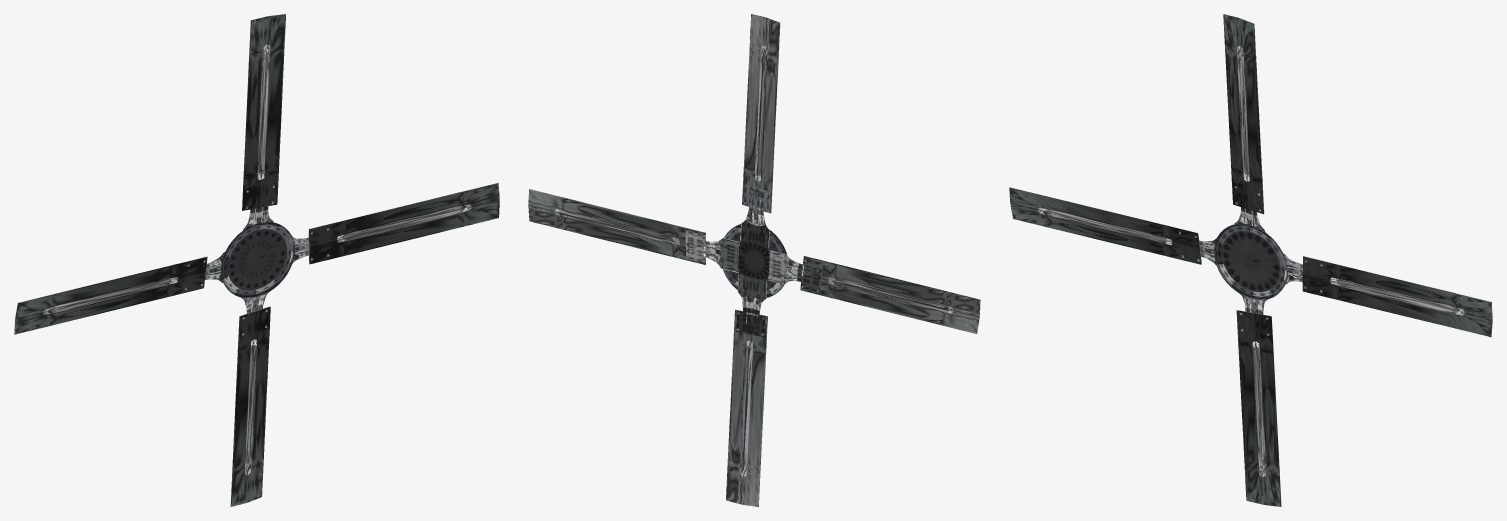
The model's file is ventilador_helice.obj.
The picture shows the model from 3 angles, left to right: view 1: azimuth 30°, elevation 25°; view 2: azimuth 150°, elevation 25°; view 3: azimuth 330°, elevation 25°; orthographic projection. The views are drawn at different scales.
Visible parts, largest first — view 1: helice_ventiladordeteto_(1).001; view 2: helice_ventiladordeteto_(1).001; view 3: helice_ventiladordeteto_(1).001.
Part boxes in pixels (x1,y1,x2,y2): helice_ventiladordeteto_(1).001: (14, 14, 499, 506); helice_ventiladordeteto_(1).001: (528, 14, 980, 506); helice_ventiladordeteto_(1).001: (1009, 14, 1492, 506).
Bounding box in the file's own units: 43.84 × 43.68 × 4.06.
1 material, 1 textured.
